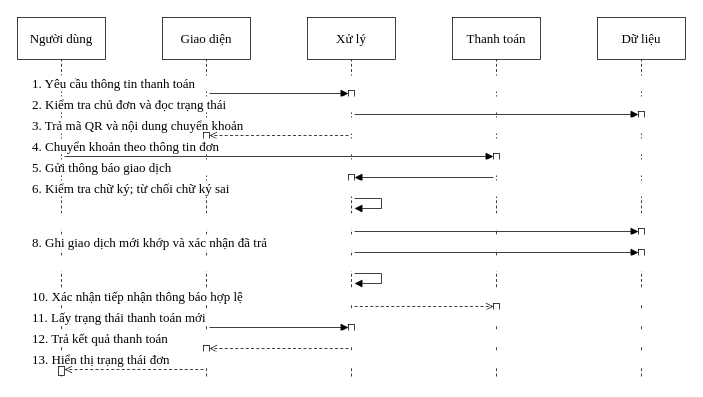
Some shapes in this 703 by 397 pixel diagram are drawn without their labels. Here are the shapes that lost their labels. From the top down, the box of each, then its label:
(27, 213, 675, 229): 7. Kiểm tra mã giao dịch, mã đơn và số tiền
(27, 255, 675, 271): 9. Không thu tiền lặp; giữ đơn khi chưa khớp
